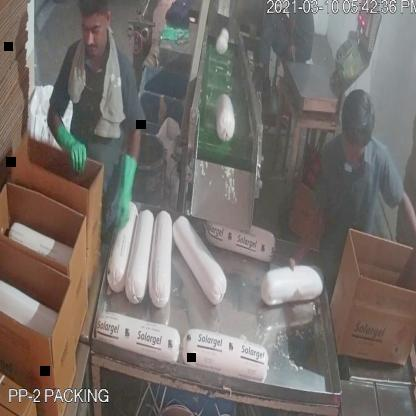glove: (101, 139, 142, 234), (50, 112, 92, 184)
no_glove: (288, 180, 328, 285), (387, 172, 416, 293)
